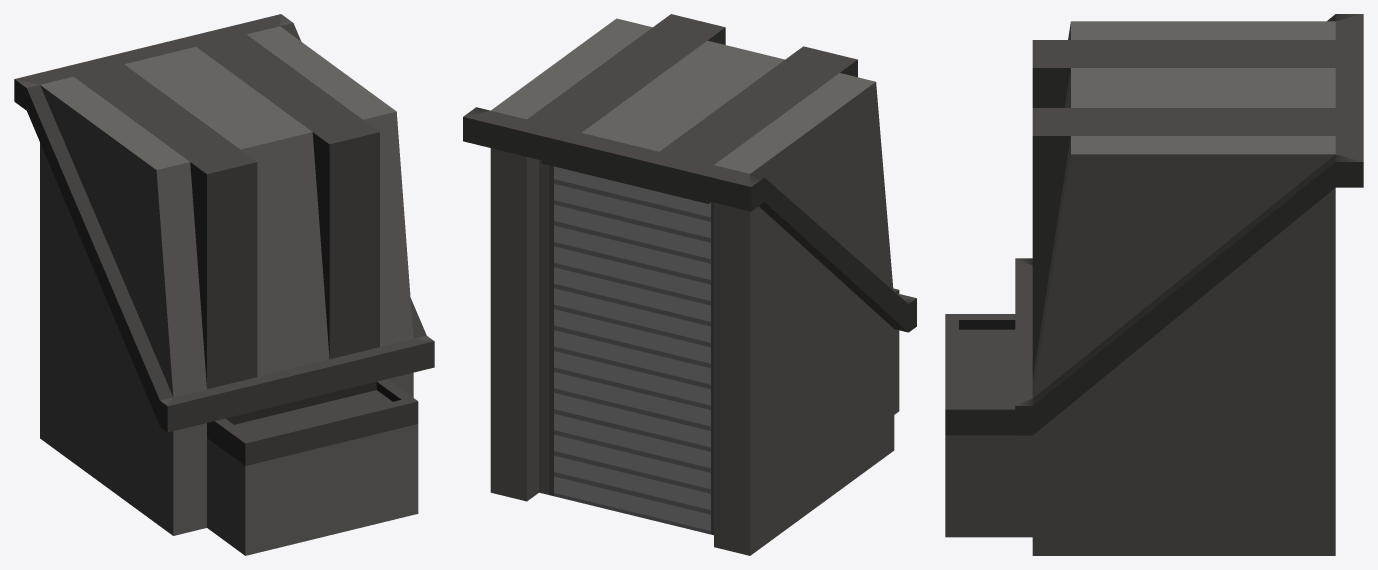
File: SM_Bld_Warehouse_01.fbx
The picture shows the model from 3 angles, left to right: view 1: azimuth 30°, elevation 25°; view 2: azimuth 150°, elevation 25°; view 3: azimuth 270°, elevation 25°; orthographic projection. The views are drawn at different scales.
Parts seen in each view (by area): view 1: SM_Bld_Warehouse_01; view 2: SM_Bld_Warehouse_01; view 3: SM_Bld_Warehouse_01.
Part boxes in pixels (<box>): SM_Bld_Warehouse_01: <box>14,14,434,555</box>; SM_Bld_Warehouse_01: <box>463,14,916,555</box>; SM_Bld_Warehouse_01: <box>945,14,1363,555</box>.
Bounding box in the file's own units: 22.01 × 27.88 × 26.31.
